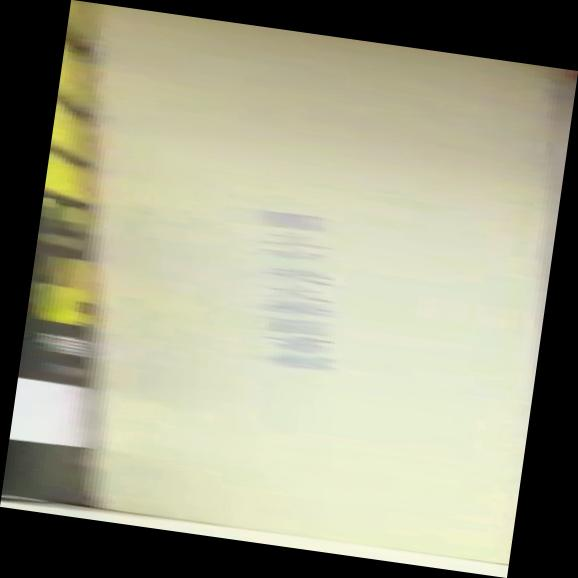backward: (1, 1, 575, 578)
